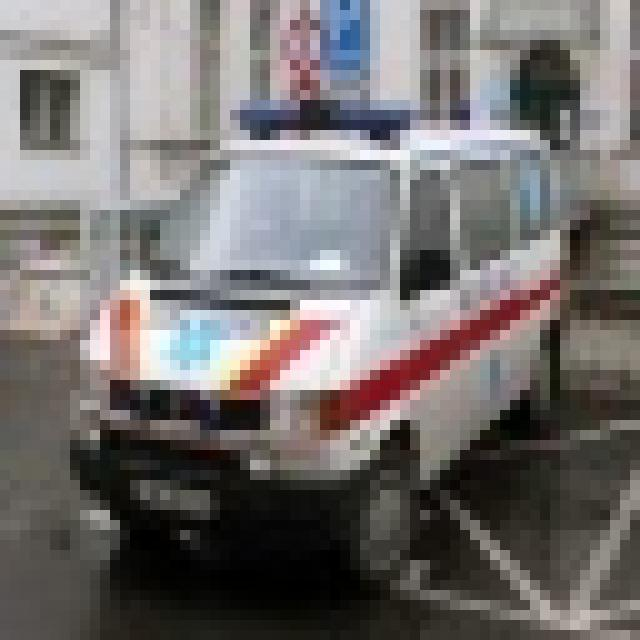Ambulance: (60, 100, 590, 590)
